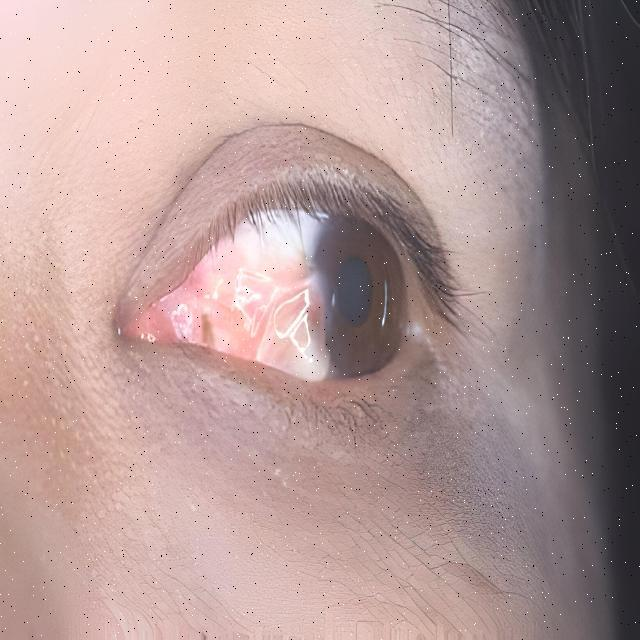Pterygium: (143, 237, 345, 381)
